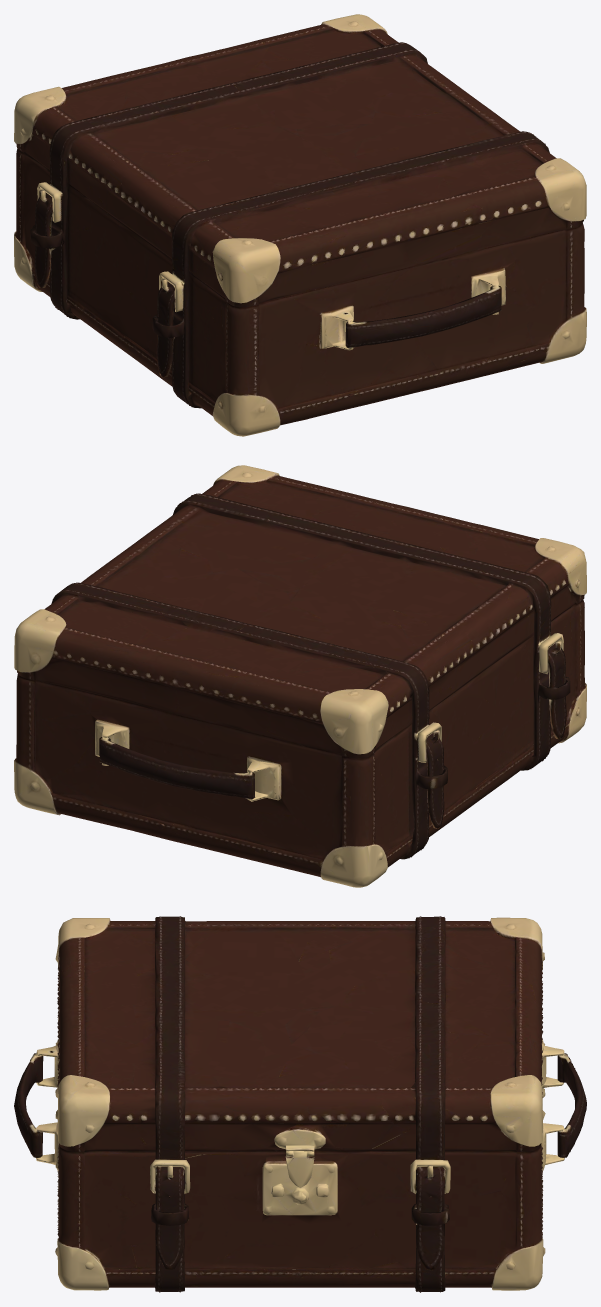
File: trunk-darkbrown.glb
The picture shows the model from 3 angles, top to bottom: view 1: azimuth 30°, elevation 25°; view 2: azimuth 150°, elevation 25°; view 3: azimuth 270°, elevation 25°; orthographic projection. The views are drawn at different scales.
Bounding box in the file's own units: 1.77 × 0.7782 × 2.
Materials: 1 (1 with a texture image).
